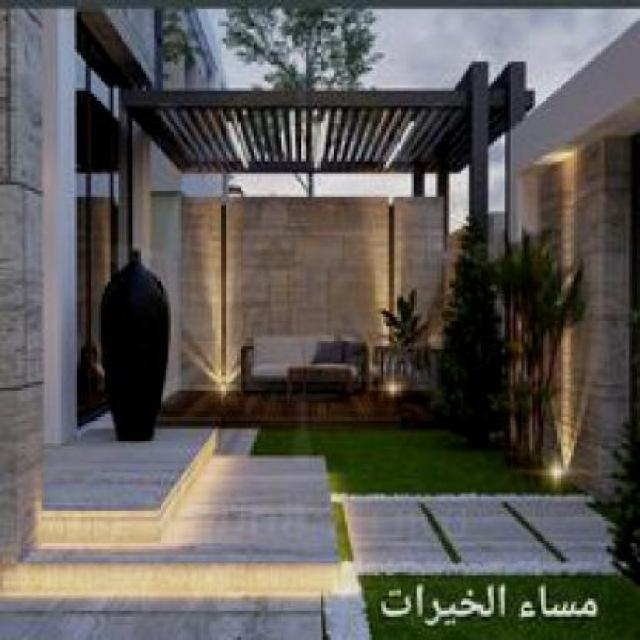stair: (58, 418, 374, 606)
